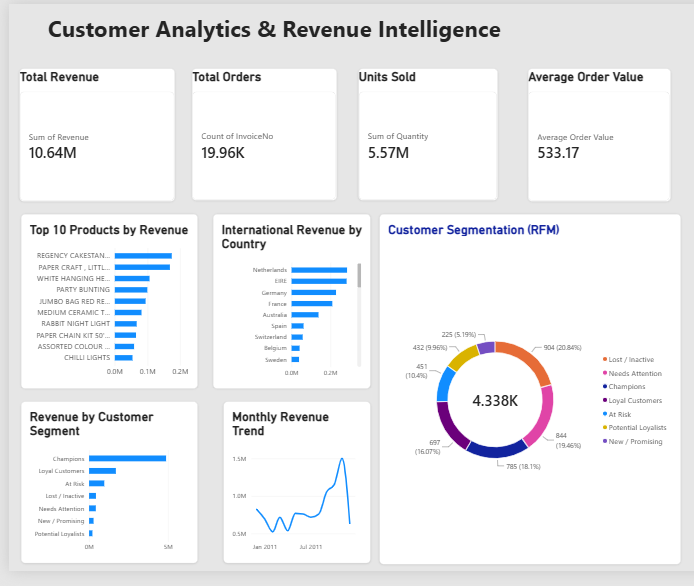

The page's visual inventory and layout, read from the dashboard file:
{"tool":"powerbi","page":{"name":"Executve Overview","canvas":[1920,1080],"ordinal":0},"visuals":[{"type":"cardVisual","title":"Total Revenue","fields":{"Data":["Sum(sales_clean.Revenue)"]},"box":[20.3,121.7,296,253.4],"z":0},{"type":"cardVisual","title":"Total Orders","fields":{"Data":["Count(sales_clean.InvoiceNo)"]},"box":[348.7,123.7,275.8,251.4],"z":1000},{"type":"cardVisual","title":"Units Sold","fields":{"Data":["Sum(sales_clean.Quantity)"]},"box":[667.1,123.7,265.6,251.4],"z":2000},{"type":"cardVisual","title":"Average Order Value","fields":{"Data":["cancellations.Average Order Value"]},"box":[989.5,121.7,271.7,253.4],"z":3000},{"type":"lineChart","title":"Monthly Revenue Trend","fields":{"Category":["monthly_summary.YearMonth"],"Y":["Sum(monthly_summary.Revenue)"]},"box":[407.5,758.3,279.8,308.2],"z":4000},{"type":"clusteredBarChart","title":"Top 10 Products by Revenue","fields":{"Category":["product_summary.Description"],"Y":["Sum(product_summary.Sales_Revenue)"]},"box":[22.3,399.4,336.6,332.5],"z":5000},{"type":"clusteredBarChart","title":"International Revenue by Country","fields":{"Category":["country_summary.Country"],"Y":["Sum(country_summary.Revenue)"]},"box":[387.3,399.4,300.1,332.5],"z":6000},{"type":"donutChart","title":"Customer Segmentation (RFM)","fields":{"Category":["customer_rfm.Segment"],"Y":["CountNonNull(customer_rfm.CustomerID)"]},"box":[705.6,399.4,573.8,667.1],"z":7000},{"type":"clusteredBarChart","title":"Revenue by Customer Segment","fields":{"Category":["customer_rfm.Segment"],"Y":["Sum(customer_rfm.Monetary)"]},"box":[22.3,758.3,336.6,308.2],"z":8000},{"type":"textbox","box":[73.3,17.8,1362.2,104.4],"z":9000}]}

Visuals, with their boxes on the page's 1920x1080 design canvas (x1, y1, x2, y2). These are canvas units, not pixel positions in the 694x586 screenshot, which may show the page scaled, cropped or inside an application window:
"Total Revenue" cardVisual: 20 122 316 375
"Total Orders" cardVisual: 349 124 624 375
"Units Sold" cardVisual: 667 124 933 375
"Average Order Value" cardVisual: 990 122 1261 375
"Monthly Revenue Trend" lineChart: 408 758 687 1066
"Top 10 Products by Revenue" clusteredBarChart: 22 399 359 732
"International Revenue by Country" clusteredBarChart: 387 399 687 732
"Customer Segmentation (RFM)" donutChart: 706 399 1279 1066
"Revenue by Customer Segment" clusteredBarChart: 22 758 359 1066
textbox: 73 18 1436 122
